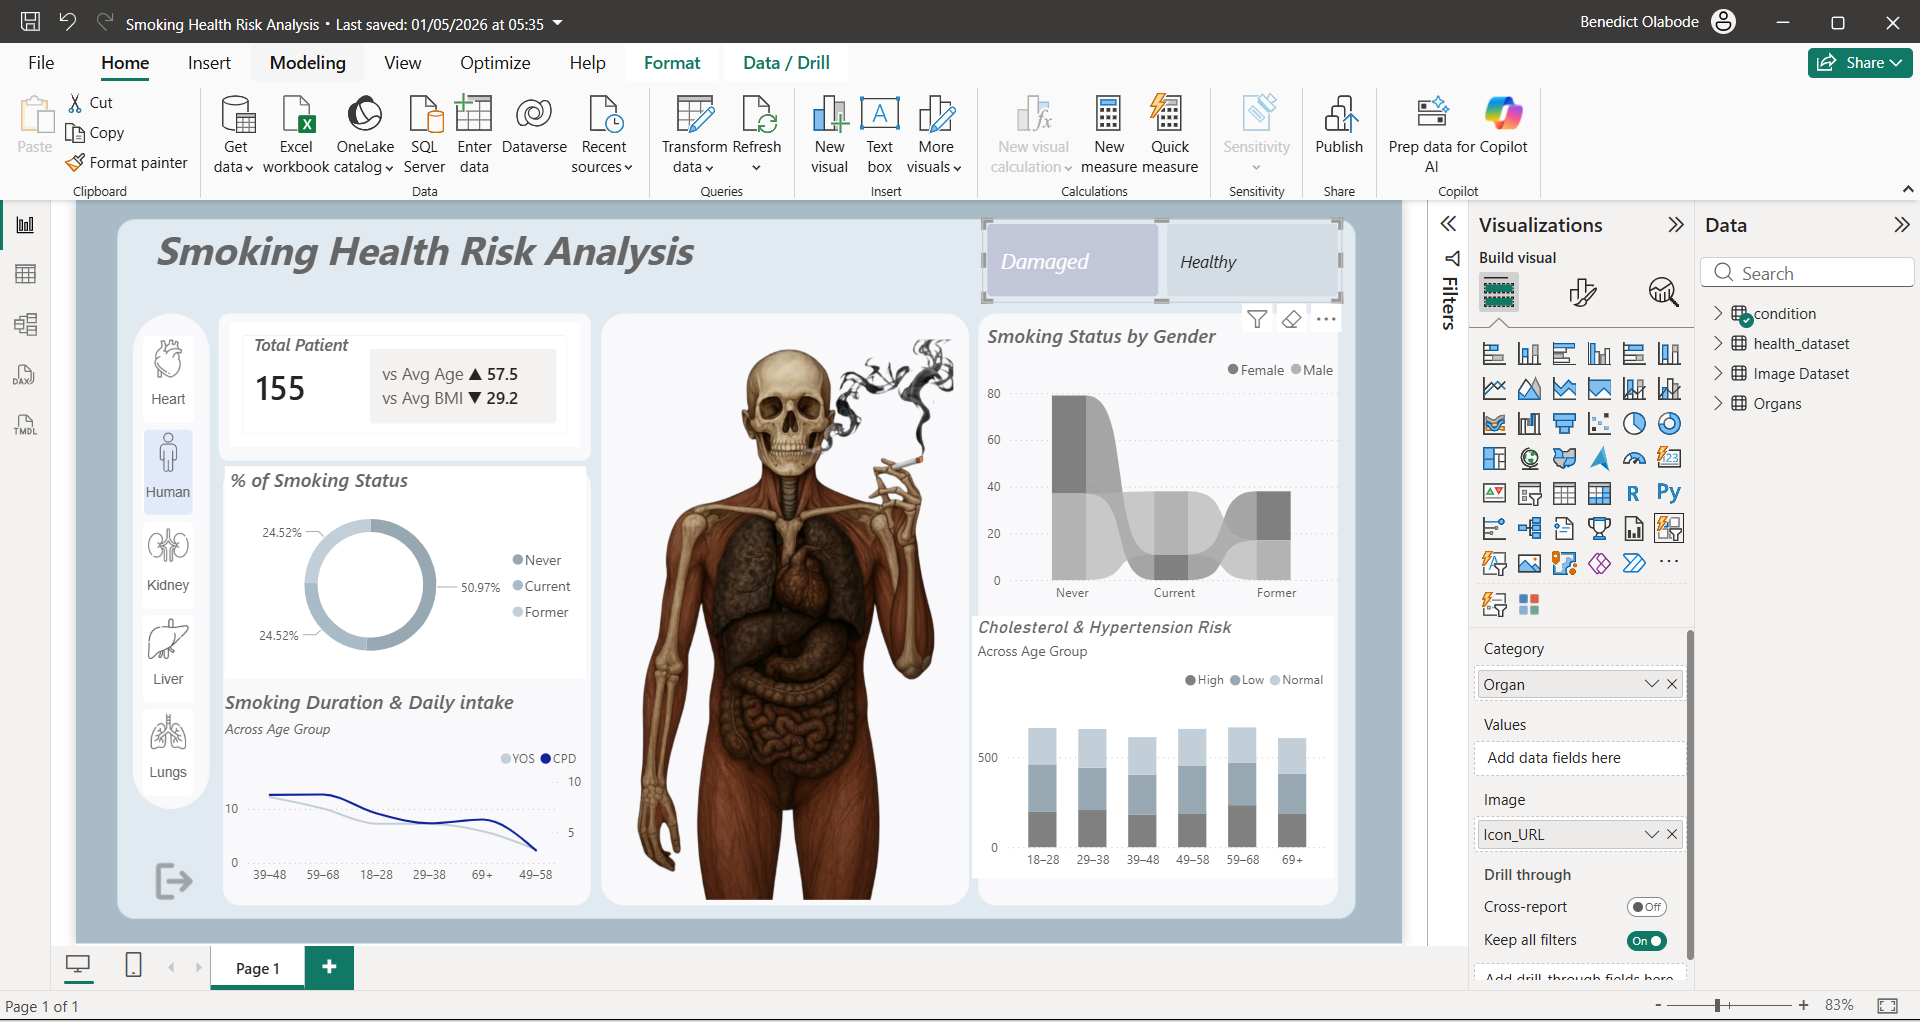

Layout of this report page (visuals, bound fields, positions):
{"tool":"powerbi","page":{"name":"Page 1","canvas":[1280,720],"ordinal":0},"visuals":[{"type":"cardVisual","fields":{"Data":["CountNonNull(health_dataset.Patient_ID)"]},"box":[144.1,113.9,348.5,130.4],"z":0},{"type":"textbox","box":[166,123.5,199,41.2],"z":1000},{"type":"advancedSlicerVisual","fields":{"Values":["condition.Organ_Condition"]},"box":[874.1,17.8,348.5,81],"z":2000},{"type":"ChicletSlicer1448559807354","fields":{"Category":["Organs.Organ"],"Image":["Organs.Icon_URL"]},"box":[56.3,123.5,109.8,496.7],"z":3000},{"type":"image","box":[516.4,119.4,348.7,556.2],"z":4000},{"type":"donutChart","title":"% of Smoking Status","fields":{"Category":["health_dataset.Smoking_Status"],"Y":["CountNonNull(health_dataset.Smoking_Status)"]},"box":[144.1,256.6,348.5,204.5],"z":5000},{"type":"lineChart","title":"Smoking Duration & Daily intake","fields":{"Category":["health_dataset.Age Group"],"Y":["Avg(health_dataset.Years_of_Smoking)"],"Y2":["Avg(health_dataset.Cigarettes_Per_Day)"]},"box":[138.6,472,354,197.6],"z":6000},{"type":"ribbonChart","title":"Smoking Status by Gender","fields":{"Category":["health_dataset.Smoking_Status"],"Y":["CountNonNull(health_dataset.Patient_ID)"],"Series":["health_dataset.Gender"]},"box":[874.1,118,348.5,278.6],"z":7000},{"type":"columnChart","title":"Cholesterol & Hypertension Risk ","fields":{"Category":["health_dataset.Age Group"],"Y":["Avg(health_dataset.Cholesterol_Level)"],"Series":["health_dataset.BP_Risk"]},"box":[864.5,402.1,348.5,252.5],"z":8000},{"type":"textbox","box":[71.4,17.8,551.6,74.1],"z":9000}]}

Visuals, with their boxes on the page's 1280x720 design canvas (x1, y1, x2, y2). These are canvas units, not pixel positions in the 1920x1022 screenshot, which may show the page scaled, cropped or inside an application window:
cardVisual - CountNonNull(health_dataset.Patient_ID): (left=144, top=114, right=493, bottom=244)
textbox: (left=166, top=124, right=365, bottom=165)
advancedSlicerVisual - condition.Organ_Condition: (left=874, top=18, right=1223, bottom=99)
ChicletSlicer1448559807354 - Organs.Organ x Organs.Icon_URL: (left=56, top=124, right=166, bottom=620)
image: (left=516, top=119, right=865, bottom=676)
"% of Smoking Status" donutChart: (left=144, top=257, right=493, bottom=461)
"Smoking Duration & Daily intake" lineChart: (left=139, top=472, right=493, bottom=670)
"Smoking Status by Gender" ribbonChart: (left=874, top=118, right=1223, bottom=397)
"Cholesterol & Hypertension Risk " columnChart: (left=864, top=402, right=1213, bottom=655)
textbox: (left=71, top=18, right=623, bottom=92)
